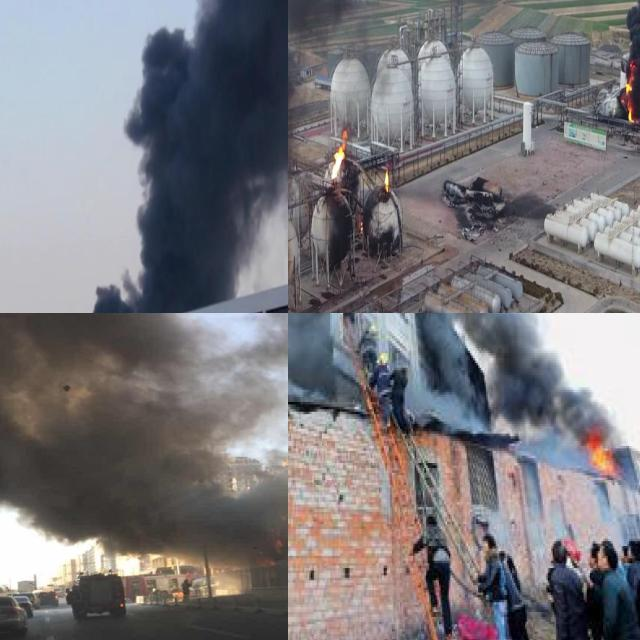fire: (620, 62, 639, 126), (586, 432, 614, 471), (330, 128, 348, 179), (382, 167, 391, 190)
smoke: (288, 0, 636, 302), (0, 313, 288, 562), (90, 0, 288, 313), (288, 313, 614, 443)
